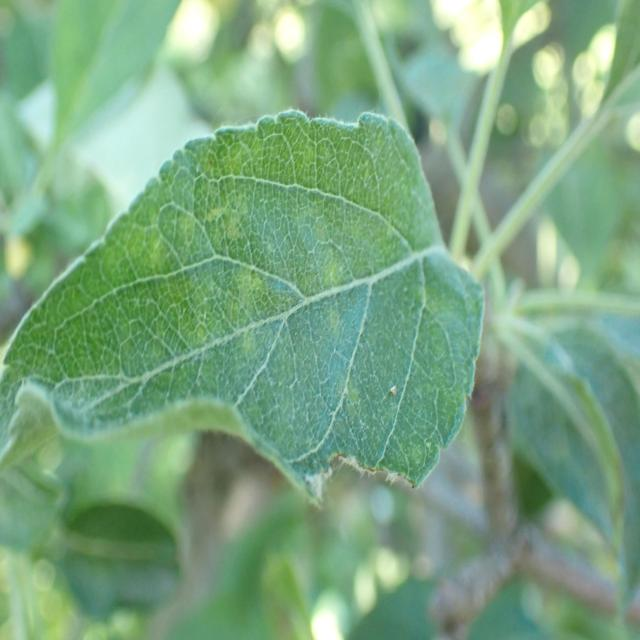scab: (18, 152, 469, 458)
